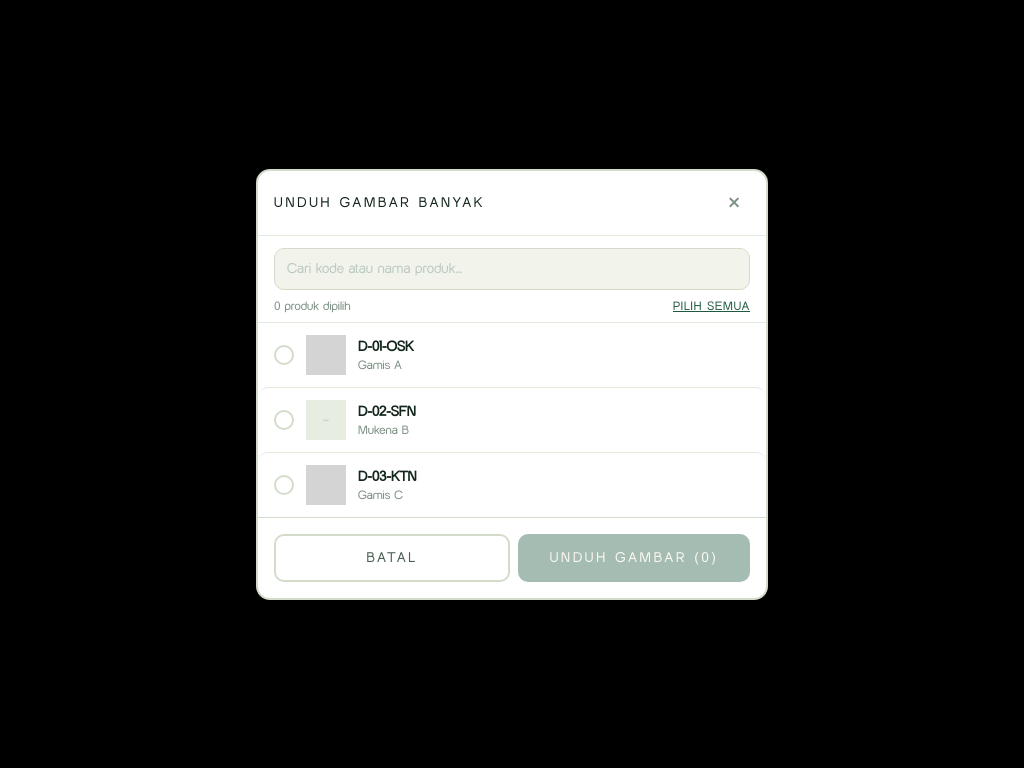
Test: BulkSaveImageModal › 'Pilih Semua' memilih semua produk yang sedang tampil
The width and height of the screenshot is (1024, 768).
Click the button "Pilih Semua" at coordinates (712, 306), box [673,298,750,314]
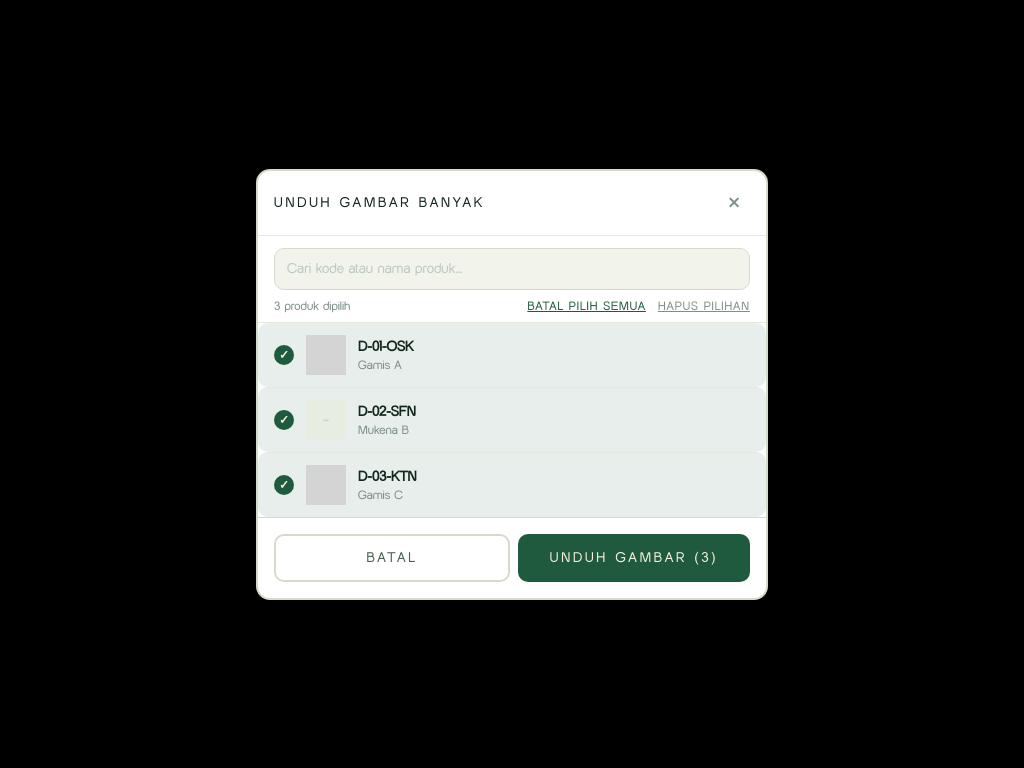
Expected: the text "3 produk dipilih" is shown, [274,298,350,314]
